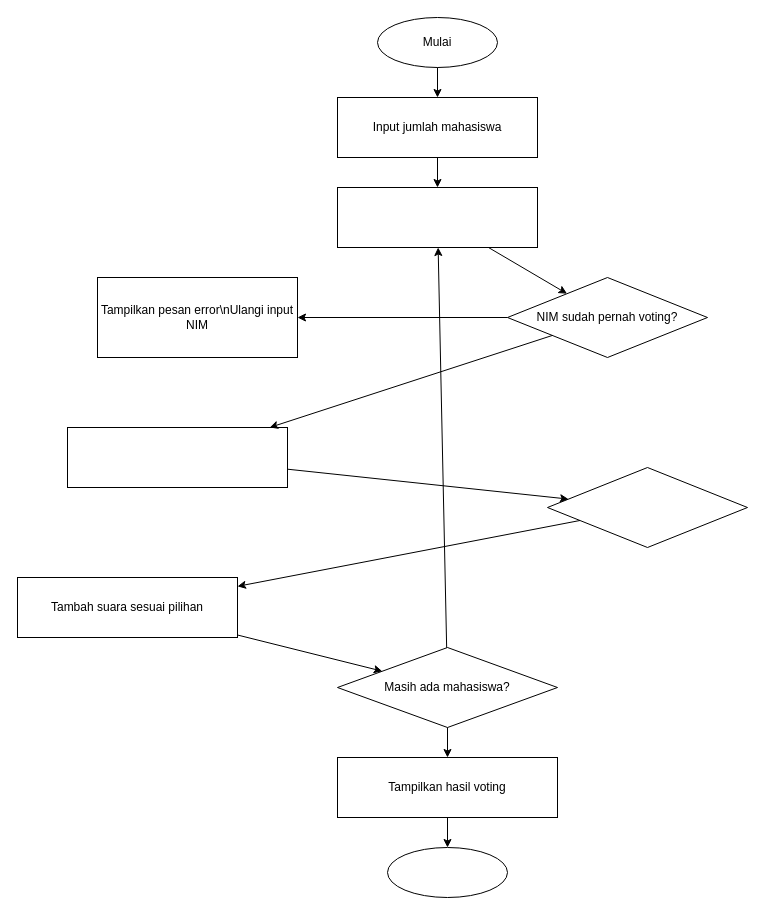
Some shapes in this 765 by 915 pixel diagram are drawn without their labels. The shapes that lost their labels are listed below. From the top down, each one's centre as x and y in pixels, then its label:
point (437, 217): Input NIM Mahasiswa
point (177, 457): Input pilihan penilaian (1-4)
point (647, 507): Pilihan valid?
point (447, 872): Selesai
